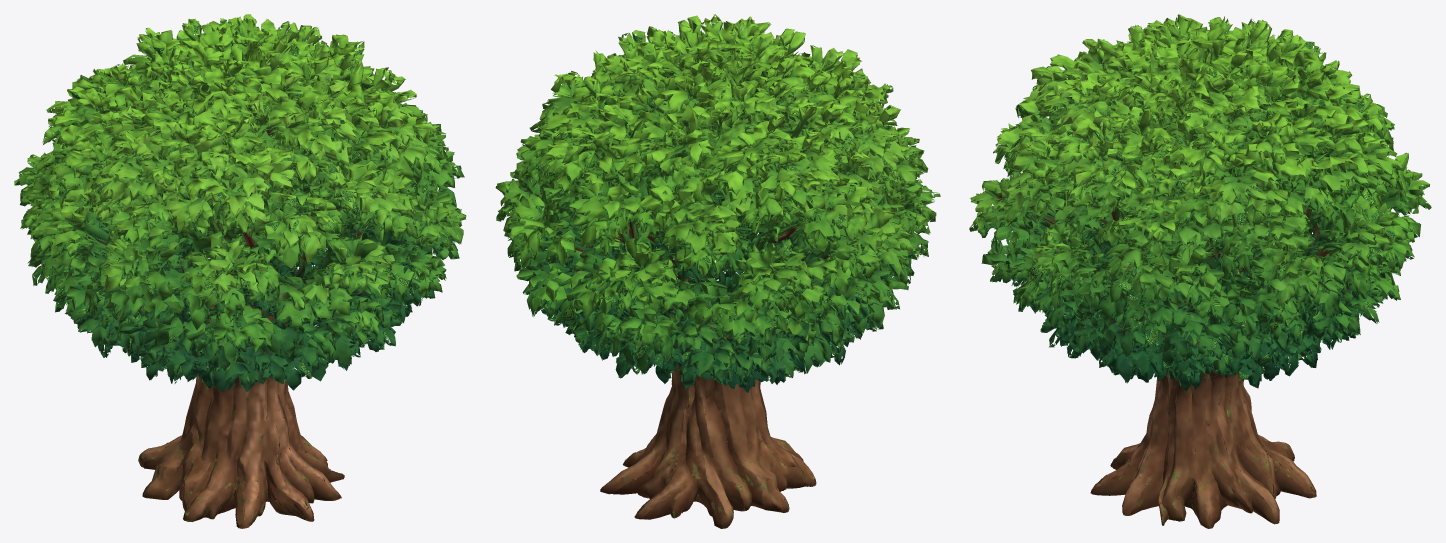
Rendered from tree_1.glb.
3 views of the same model, side by side, from view 1: azimuth 30°, elevation 25°; view 2: azimuth 150°, elevation 25°; view 3: azimuth 270°, elevation 25° (orthographic).
Parts seen in each view (by area): view 1: Mesh_0; view 2: Mesh_0; view 3: Mesh_0.
Part boxes in pixels (x1,y1,x2,y2): Mesh_0: [14, 14, 466, 528]; Mesh_0: [495, 14, 940, 528]; Mesh_0: [969, 14, 1431, 528].
Bounding box in the file's own units: 1.75 × 1.9 × 1.79.
Materials: 1 (1 with a texture image).
